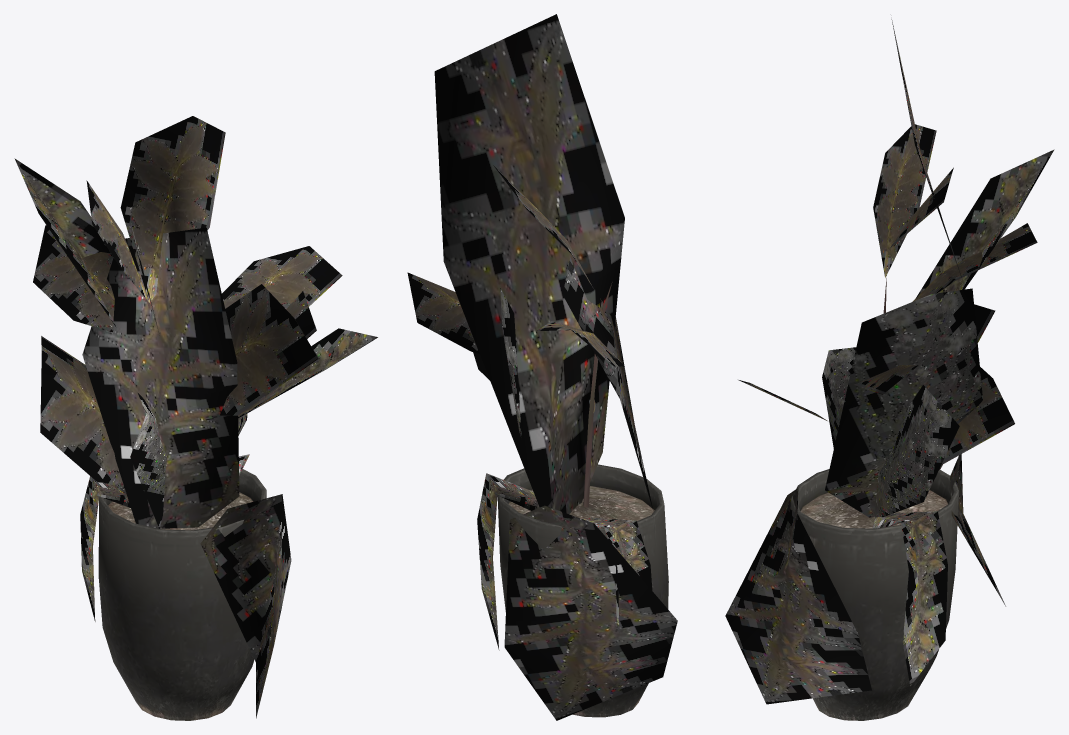
Rendered from potted_plant_a.glb.
The picture shows the model from 3 angles, left to right: view 1: azimuth 30°, elevation 25°; view 2: azimuth 150°, elevation 25°; view 3: azimuth 270°, elevation 25°; orthographic projection. The views are drawn at different scales.
Visible parts, largest first — view 1: potted_plant_a; view 2: potted_plant_a; view 3: potted_plant_a.
Part boxes in pixels (left/top/right/bottom): potted_plant_a: left=14, top=116, right=377, bottom=720; potted_plant_a: left=407, top=14, right=677, bottom=720; potted_plant_a: left=725, top=19, right=1054, bottom=720.
Bounding box in the file's own units: 0.8978 × 1.98 × 0.8469.
Materials: 1 (1 with a texture image).
